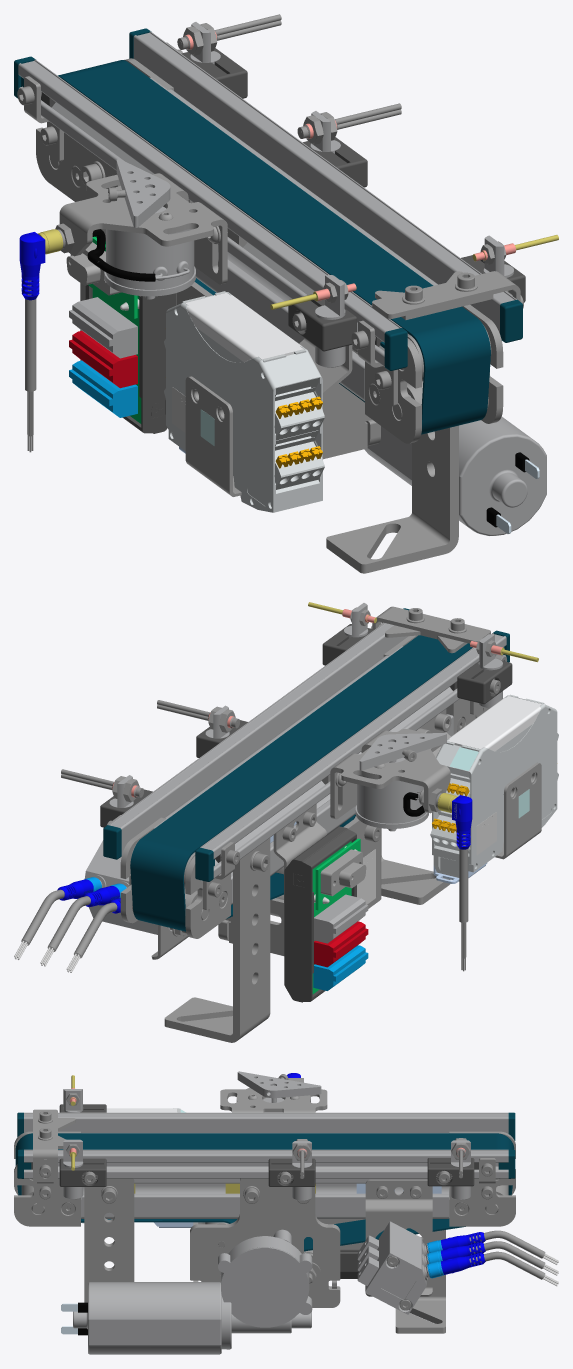
Rendered from 3116345_3116345_TRANSPORTBAND_F_3.fbx.
The picture shows the model from 3 angles, top to bottom: view 1: azimuth 30°, elevation 25°; view 2: azimuth 150°, elevation 25°; view 3: azimuth 270°, elevation 25°; orthographic projection. The views are drawn at different scales.
Visible parts, largest first — view 1: 3122169_ASM, 3115445_ASM, 5079936_ASM, 8093292_ASM, 2494806_ASM, 3115458_ASM, 2619803_ASM, 00664917_ASM (×2), 2440719_ASM, 2456725_AF194_ASM, 2624908_ASM, 00159422_DUMMY (+6 smaller); view 2: 3122169_ASM, 3115445_ASM, 5079936_ASM, 3115458_ASM, 8093292_ASM, 2624908_ASM, 2619803_ASM, 00664917_ASM (×2), 2456725_AF194_ASM, 00158960_DUMMY (×3), 2440719_ASM, 3116345_ASM (+11 smaller); view 3: 2494806_ASM, 3122169_ASM, 3115445_ASM, 3115458_ASM, 00664917_ASM (×2), 00165327_DUMMY (×3), 3116345_ASM, 00158960_DUMMY (×3), 8093292_ASM, 2456725_AF194_ASM, 2456030_AF0_ASM, 2456030_AF11_ASM (+4 smaller).
Boxes of the visible parts, x1=… form: 3122169_ASM: x1=14, y1=28, x2=523, y2=406; 3115445_ASM: x1=58, y1=60, x2=490, y2=434; 5079936_ASM: x1=164, y1=291, x2=324, y2=512; 8093292_ASM: x1=55, y1=159, x2=246, y2=299; 2494806_ASM: x1=177, y1=282, x2=546, y2=535; 3115458_ASM: x1=80, y1=144, x2=458, y2=573; 2619803_ASM: x1=69, y1=236, x2=141, y2=423; 00664917_ASM (×2): x1=36, y1=58, x2=503, y2=443; 2440719_ASM: x1=185, y1=338, x2=352, y2=496; 2456725_AF194_ASM: x1=288, y1=235, x2=525, y2=367; 2624908_ASM: x1=85, y1=229, x2=176, y2=433; 00159422_DUMMY: x1=19, y1=229, x2=63, y2=452; 3122169_ASM: x1=103, y1=606, x2=509, y2=910; 3115445_ASM: x1=130, y1=635, x2=472, y2=931; 5079936_ASM: x1=430, y1=694, x2=558, y2=883; 3115458_ASM: x1=164, y1=828, x2=449, y2=1042; 8093292_ASM: x1=322, y1=729, x2=450, y2=831; 2624908_ASM: x1=284, y1=826, x2=356, y2=1002; 2619803_ASM: x1=312, y1=841, x2=368, y2=994; 00664917_ASM (×2): x1=120, y1=635, x2=489, y2=938; 2456725_AF194_ASM: x1=322, y1=603, x2=512, y2=708; 00158960_DUMMY (×3): x1=14, y1=877, x2=126, y2=972; 2440719_ASM: x1=416, y1=709, x2=541, y2=859; 3116345_ASM: x1=151, y1=713, x2=451, y2=959; 2494806_ASM: x1=61, y1=1178, x2=340, y2=1354; 3122169_ASM: x1=17, y1=1109, x2=515, y2=1206; 3115445_ASM: x1=15, y1=1133, x2=514, y2=1251; 3115458_ASM: x1=84, y1=1178, x2=445, y2=1333; 00664917_ASM (×2): x1=14, y1=1131, x2=515, y2=1226; 00165327_DUMMY (×3): x1=357, y1=1221, x2=430, y2=1314; 3116345_ASM: x1=337, y1=1179, x2=441, y2=1310; 00158960_DUMMY (×3): x1=427, y1=1230, x2=558, y2=1286; 8093292_ASM: x1=220, y1=1071, x2=327, y2=1112; 2456725_AF194_ASM: x1=59, y1=1089, x2=106, y2=1199; 2456030_AF0_ASM: x1=268, y1=1141, x2=315, y2=1200; 2456030_AF11_ASM: x1=427, y1=1140, x2=474, y2=1200.
Size of the model in its own units: 176 by 135 by 326.
